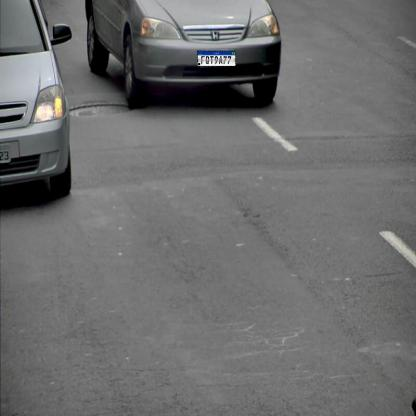PlacaM: (197, 50, 236, 66)
